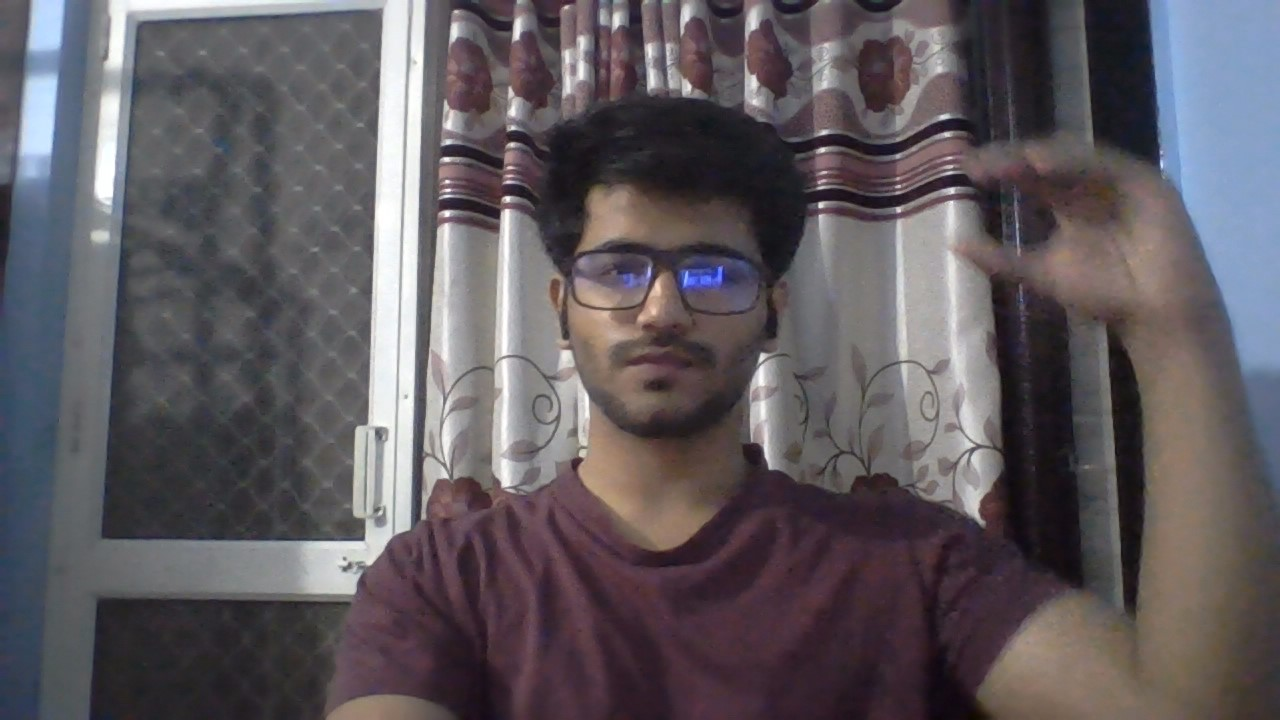C: (922, 109, 1250, 343)
